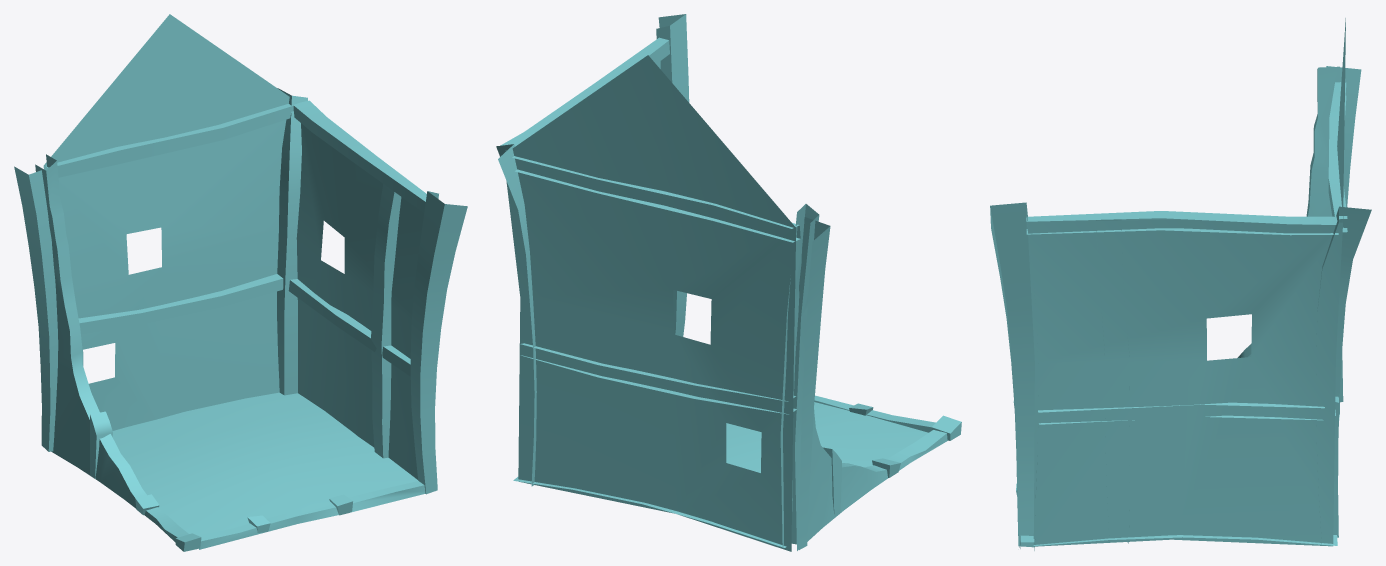
The model's file is walls 1.fbx.
The picture shows the model from 3 angles, left to right: view 1: azimuth 30°, elevation 25°; view 2: azimuth 150°, elevation 25°; view 3: azimuth 270°, elevation 25°; orthographic projection. The views are drawn at different scales.
Parts seen in each view (by area): view 1: walls_low1; view 2: walls_low1; view 3: walls_low1.
Boxes of the visible parts, <box> form: walls_low1: <box>14,14,467,551</box>; walls_low1: <box>496,14,961,551</box>; walls_low1: <box>990,18,1371,550</box>.
Size of the model in its own units: 554 by 729 by 538.
